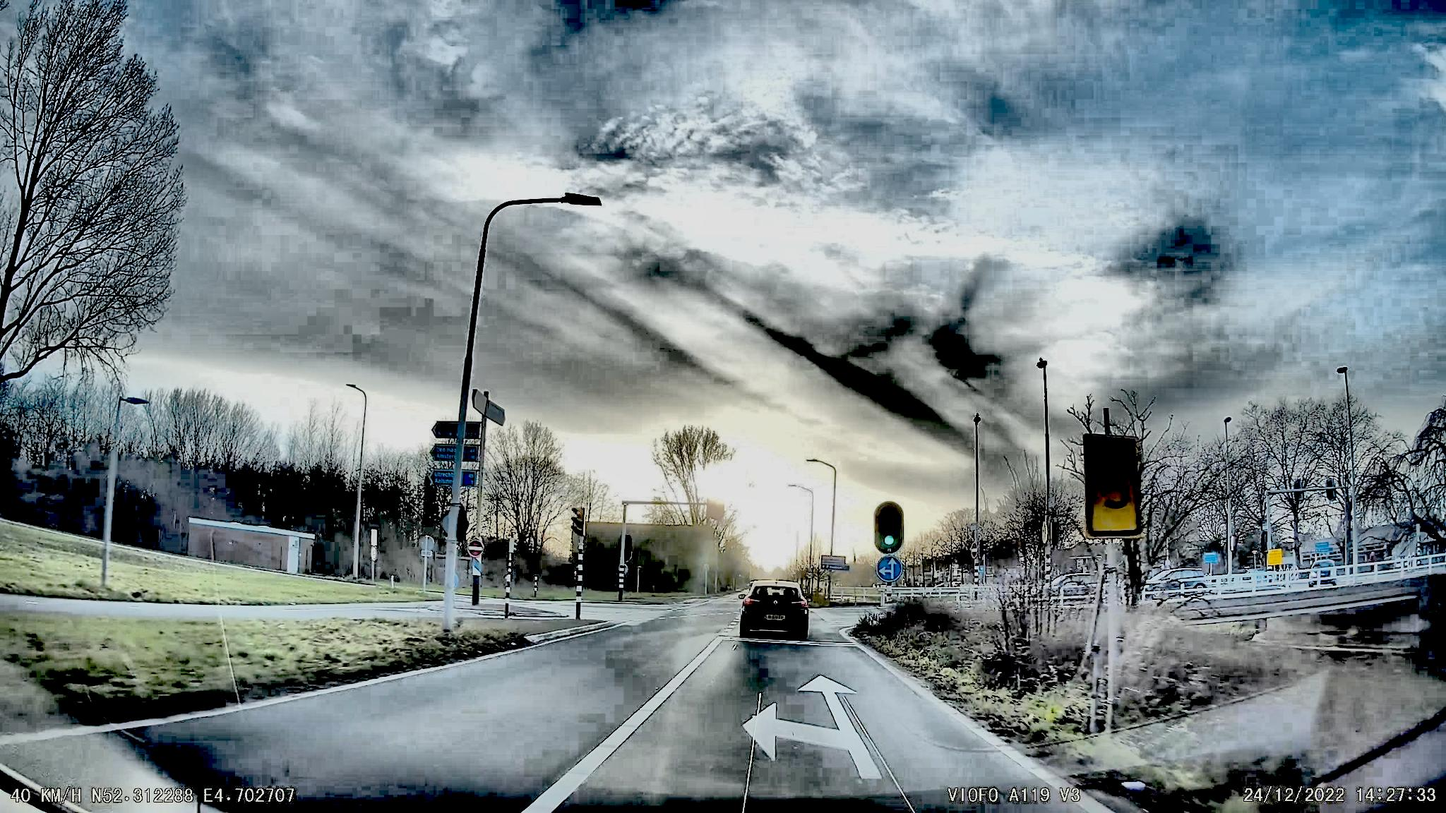Roads: (0, 601, 1103, 813)
